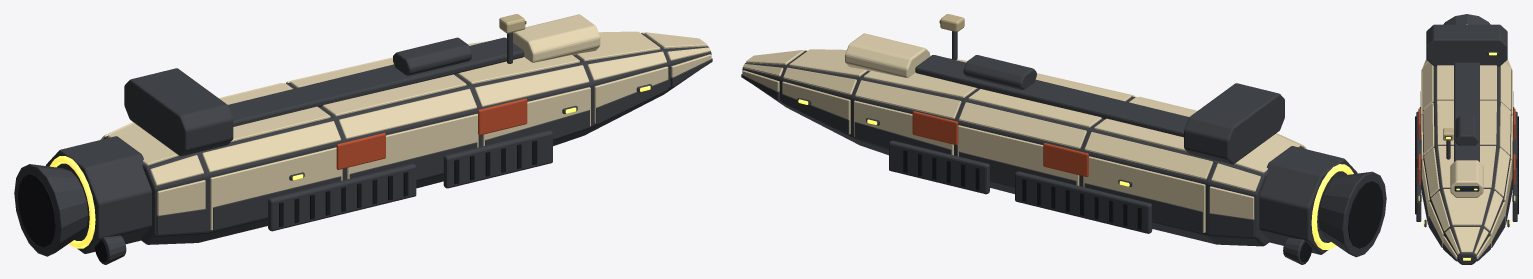
File: corvette.glb
3 renders of one model, left to right at view 1: azimuth 30°, elevation 25°; view 2: azimuth 150°, elevation 25°; view 3: azimuth 270°, elevation 25°, orthographic. The views are drawn at different scales.
Parts seen in each view (by area): view 1: hull body, drive body; view 2: hull body, drive body; view 3: hull body, drive body.
Boxes of the visible parts, x1,y1,x2,y2 form: hull body: [100, 14, 712, 244]; drive body: [14, 136, 151, 264]; hull body: [741, 14, 1306, 246]; drive body: [1259, 146, 1386, 264]; hull body: [1415, 24, 1518, 264]; drive body: [1443, 14, 1490, 24].
Size of the model in its own units: 13.79 by 2.72 by 2.8.
